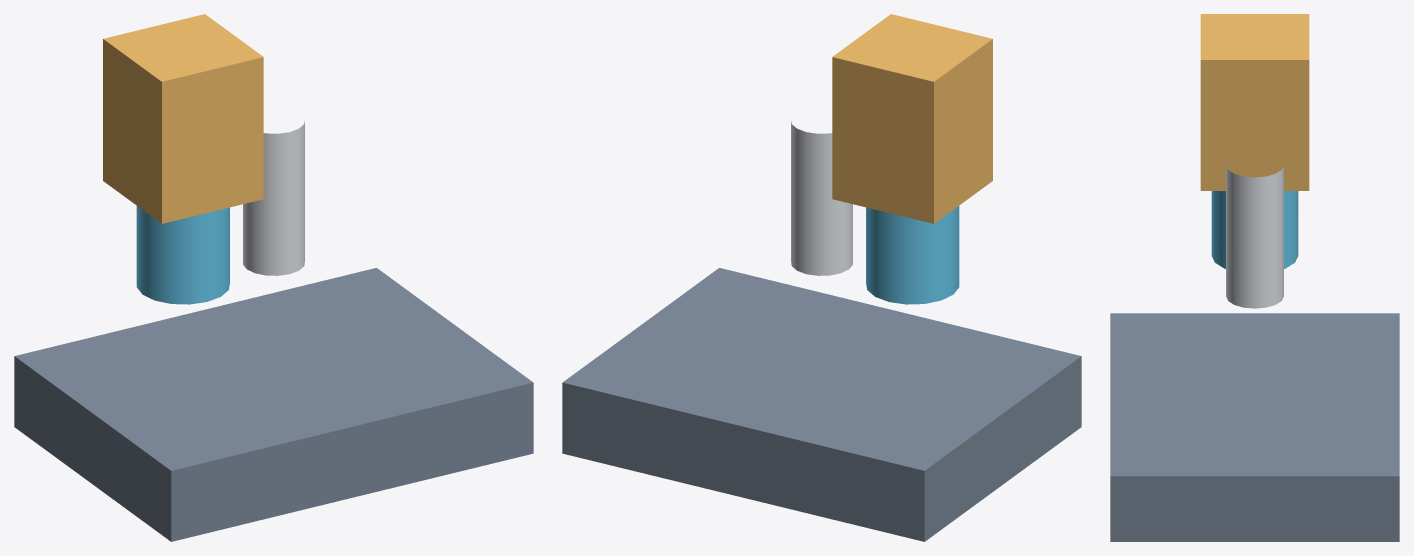
Rendered from advanced_machining_laser_waterjet.glb.
The picture shows the model from 3 angles, left to right: view 1: azimuth 30°, elevation 25°; view 2: azimuth 150°, elevation 25°; view 3: azimuth 270°, elevation 25°; orthographic projection. The views are drawn at different scales.
Parts seen in each view (by area): view 1: WorktableSlatGridCatchTank, AbrasiveGarnetFeedHopper, WaterjetAbrasiveMixingChamber, FiberLaserCuttingHeadNozzle; view 2: WorktableSlatGridCatchTank, AbrasiveGarnetFeedHopper, WaterjetAbrasiveMixingChamber, FiberLaserCuttingHeadNozzle; view 3: WorktableSlatGridCatchTank, AbrasiveGarnetFeedHopper, FiberLaserCuttingHeadNozzle, WaterjetAbrasiveMixingChamber.
Boxes of the visible parts, x1=… form: WorktableSlatGridCatchTank: x1=14, y1=268, x2=533, y2=541; AbrasiveGarnetFeedHopper: x1=103, y1=14, x2=263, y2=223; WaterjetAbrasiveMixingChamber: x1=136, y1=206, x2=229, y2=304; FiberLaserCuttingHeadNozzle: x1=243, y1=121, x2=304, y2=275; WorktableSlatGridCatchTank: x1=562, y1=268, x2=1081, y2=541; AbrasiveGarnetFeedHopper: x1=832, y1=14, x2=992, y2=223; WaterjetAbrasiveMixingChamber: x1=866, y1=206, x2=959, y2=304; FiberLaserCuttingHeadNozzle: x1=791, y1=121, x2=852, y2=275; WorktableSlatGridCatchTank: x1=1110, y1=313, x2=1399, y2=541; AbrasiveGarnetFeedHopper: x1=1200, y1=14, x2=1309, y2=190; FiberLaserCuttingHeadNozzle: x1=1226, y1=165, x2=1283, y2=308; WaterjetAbrasiveMixingChamber: x1=1211, y1=191, x2=1298, y2=268.
Bounding box in the file's own units: 1.6 × 1.75 × 1.2.
